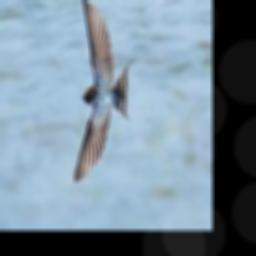Swallow: (74, 0, 136, 183)
